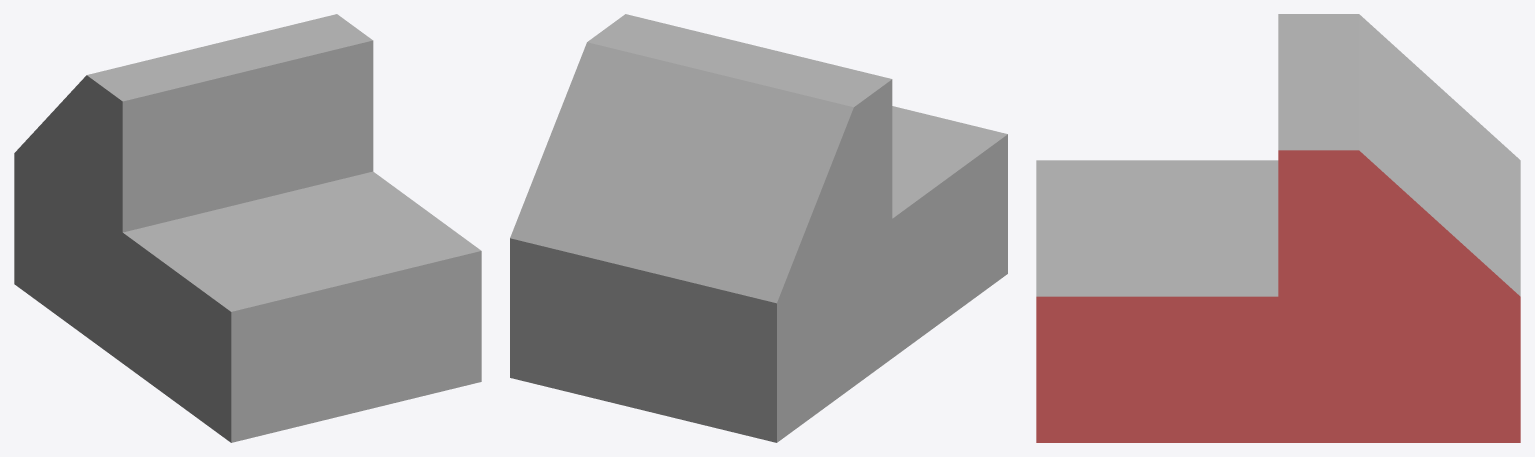
The picture shows the model from 3 angles, left to right: view 1: azimuth 30°, elevation 25°; view 2: azimuth 150°, elevation 25°; view 3: azimuth 270°, elevation 25°; orthographic projection. The views are drawn at different scales.
Visible parts, largest first — view 1: 7-12.SLDPRT; view 2: 7-12.SLDPRT; view 3: 7-12.SLDPRT.
Part boxes in pixels (left/top/right/bottom): 7-12.SLDPRT: left=14, top=14, right=481, bottom=442; 7-12.SLDPRT: left=510, top=14, right=1007, bottom=442; 7-12.SLDPRT: left=1036, top=14, right=1520, bottom=442.
Bounding box in the file's own units: 0.04 × 0.04 × 0.06.
